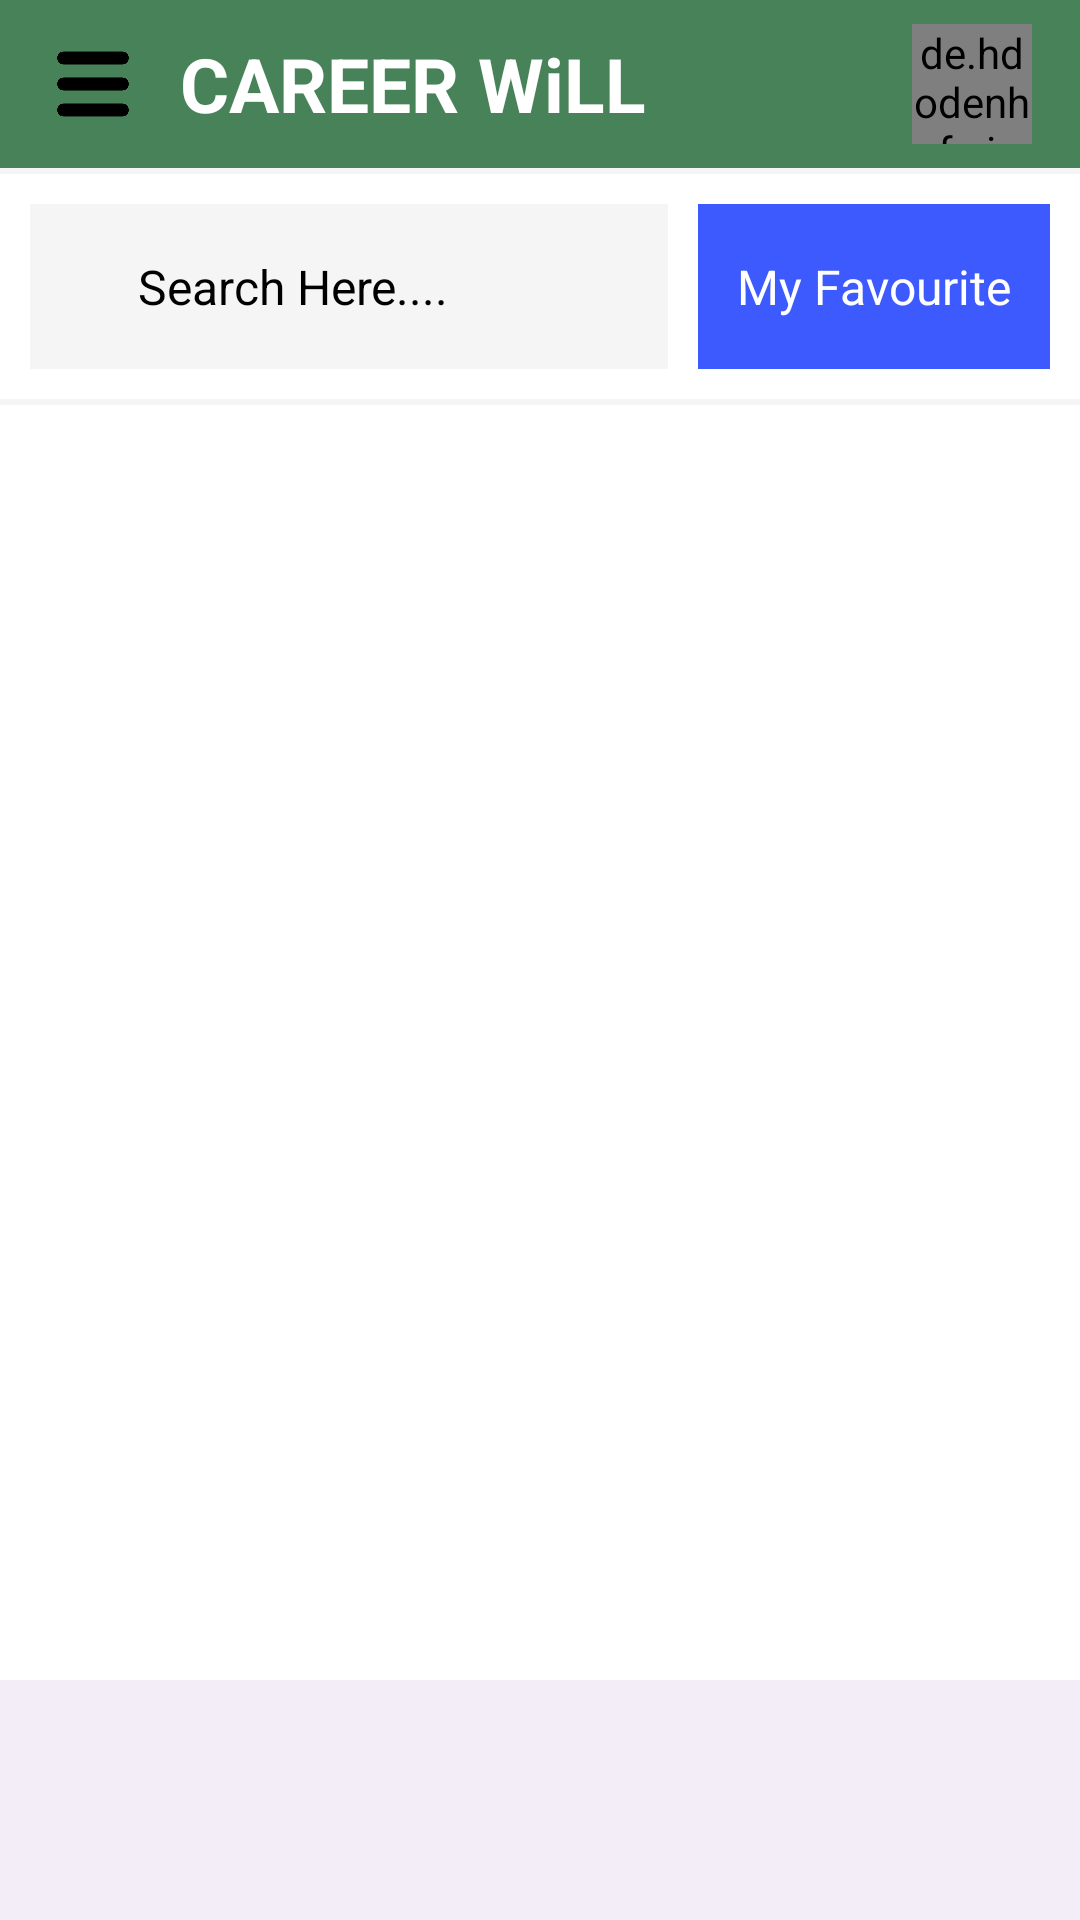

Where to tap for icons on this 1080px×1920px app screen, as (x,y):
lines menu: (93,84)
